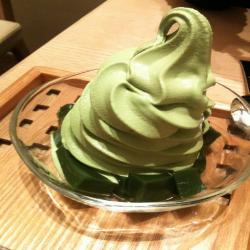icecream: (55, 7, 226, 193)
